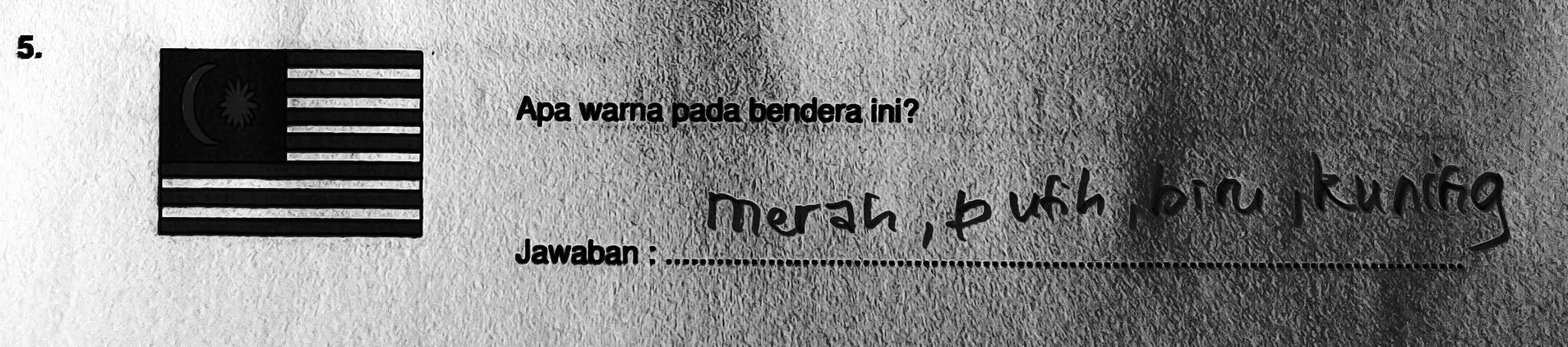jawaban: (1310, 151, 1512, 251), (937, 158, 1114, 248), (706, 191, 901, 235), (1144, 155, 1266, 219)
